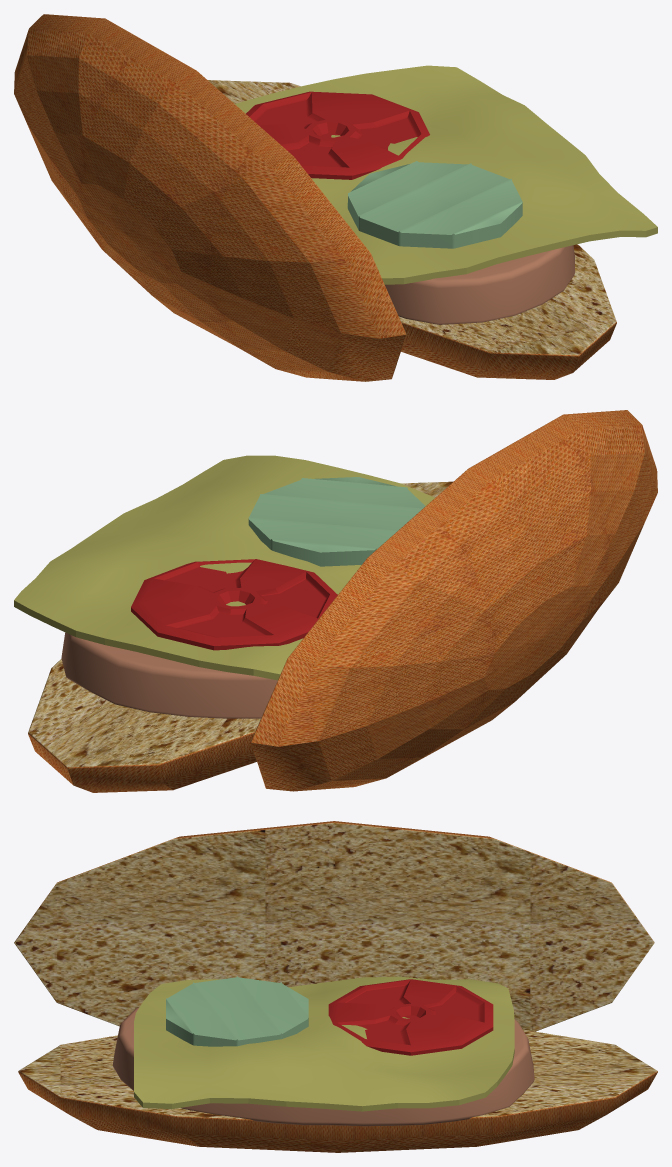
The model's file is Sandwhich.fbx.
3 views of the same model, one above another, from view 1: azimuth 30°, elevation 25°; view 2: azimuth 150°, elevation 25°; view 3: azimuth 270°, elevation 25° (orthographic). The views are drawn at different scales.
Visible parts, largest first — view 1: Top_loaf, Cheese, Bottom_Loaf, Piccles, Tomato, Steak; view 2: Top_loaf, Cheese, Bottom_Loaf, Tomato, Piccles, Steak; view 3: Top_loaf, Cheese, Bottom_Loaf, Tomato, Piccles, Steak.
Boxes of the visible parts, x1,y1,x2,y2 form: Top_loaf: [14, 14, 406, 381]; Cheese: [235, 65, 657, 284]; Bottom_Loaf: [208, 80, 616, 379]; Piccles: [347, 161, 522, 248]; Tomato: [246, 91, 429, 179]; Steak: [385, 245, 574, 324]; Top_loaf: [250, 410, 657, 791]; Cheese: [14, 455, 434, 680]; Bottom_Loaf: [28, 481, 452, 792]; Tomato: [131, 559, 337, 650]; Piccles: [248, 477, 425, 566]; Steak: [61, 632, 277, 718]; Top_loaf: [14, 821, 654, 1031]; Cheese: [134, 976, 514, 1111]; Bottom_Loaf: [18, 1029, 657, 1152]; Tomato: [328, 979, 493, 1055]; Piccles: [166, 976, 308, 1046]; Steak: [112, 1007, 534, 1126].
Size of the model in its own units: 0.067 by 0.0382 by 0.1.
